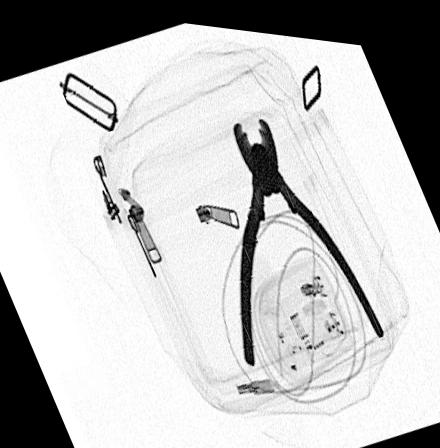Pliers: (230, 104, 389, 367)
